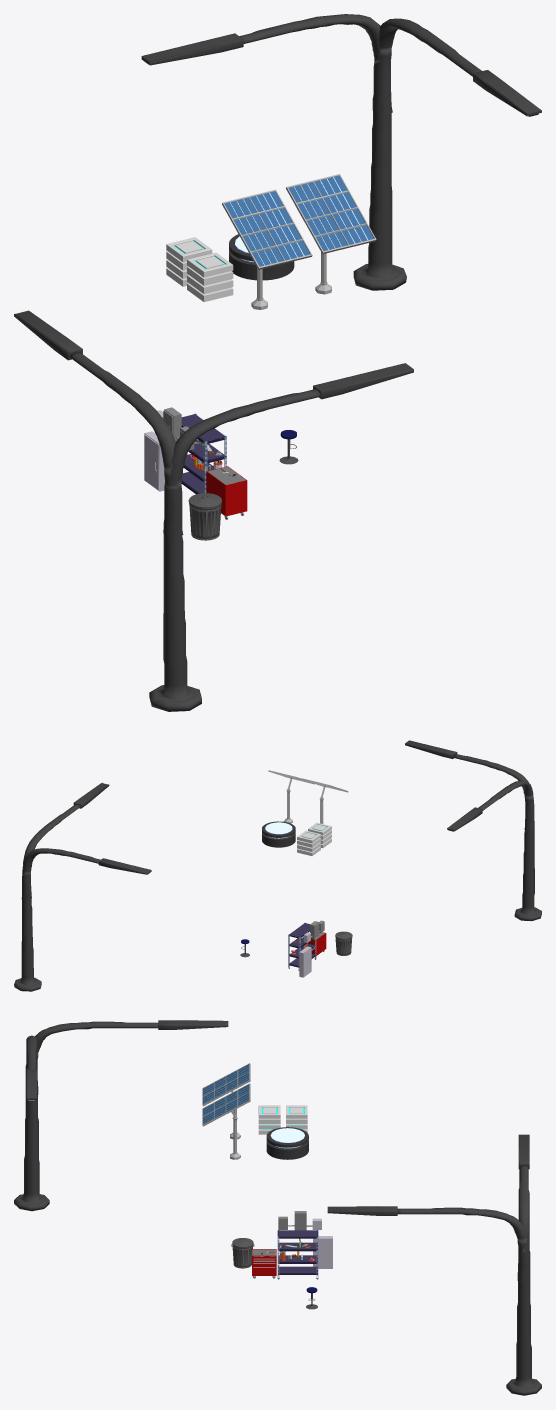
The model's file is compressed_Decors.glb.
The picture shows the model from 3 angles, top to bottom: view 1: azimuth 30°, elevation 25°; view 2: azimuth 150°, elevation 25°; view 3: azimuth 270°, elevation 25°; orthographic projection. The views are drawn at different scales.
Visible parts, largest first — view 1: StreetLight, StreetLight2, StreeLightExtension, StreeLightExtension2, Cube.031, Cube.027, Battery2, Shelf_Cube.004, TooldBox, Garbage_Bin, Battery1, SolarPanel (+3 smaller); view 2: StreetLight2, StreetLight, StreeLightExtension2, StreeLightExtension, Shelf_Cube.004, Hologrambase, Battery1, Garbage_Bin, PowerBox, Battery2; view 3: StreetLight2, StreetLight, StreeLightExtension2, StreeLightExtension, Shelf_Cube.004, Hologrambase, Cube.031, Cube.027, TooldBox, Battery2, Garbage_Bin, PowerBox (+2 smaller).
Part boxes in pixels (x1,y1,x2,y2): StreetLight: (149, 363, 413, 711); StreetLight2: (141, 14, 406, 290); StreeLightExtension: (14, 310, 183, 537); StreeLightExtension2: (372, 18, 541, 116); Cube.031: (288, 175, 373, 250); Cube.027: (224, 191, 309, 266); Battery2: (187, 252, 233, 301); Shelf_Cube.004: (181, 413, 226, 494); TooldBox: (206, 466, 247, 519); Garbage_Bin: (188, 493, 221, 540); Battery1: (166, 237, 212, 286); SolarPanel: (222, 189, 312, 269); StreetLight2: (14, 848, 151, 991); StreetLight: (405, 740, 541, 921); StreeLightExtension2: (21, 782, 109, 900); StreeLightExtension: (447, 780, 534, 831); Shelf_Cube.004: (288, 922, 316, 970); Hologrambase: (262, 821, 295, 847); Battery1: (297, 830, 320, 855); Garbage_Bin: (335, 931, 352, 955); PowerBox: (299, 946, 311, 977); Battery2: (308, 822, 331, 848); StreetLight2: (506, 1134, 541, 1395); StreetLight: (14, 1035, 49, 1211); StreeLightExtension2: (327, 1206, 530, 1283); StreeLightExtension: (25, 1020, 228, 1095); Shelf_Cube.004: (277, 1230, 318, 1279); Hologrambase: (266, 1127, 308, 1159); Cube.031: (203, 1084, 248, 1124); Cube.027: (203, 1064, 248, 1103); TooldBox: (252, 1249, 276, 1278); Battery2: (258, 1105, 280, 1134); Garbage_Bin: (231, 1238, 254, 1268); PowerBox: (313, 1236, 332, 1268).
Bounding box in the file's own units: 33.34 × 16.25 × 37.27.
